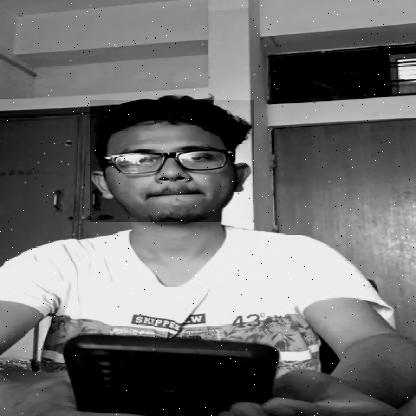Normal: (90, 100, 254, 222)
